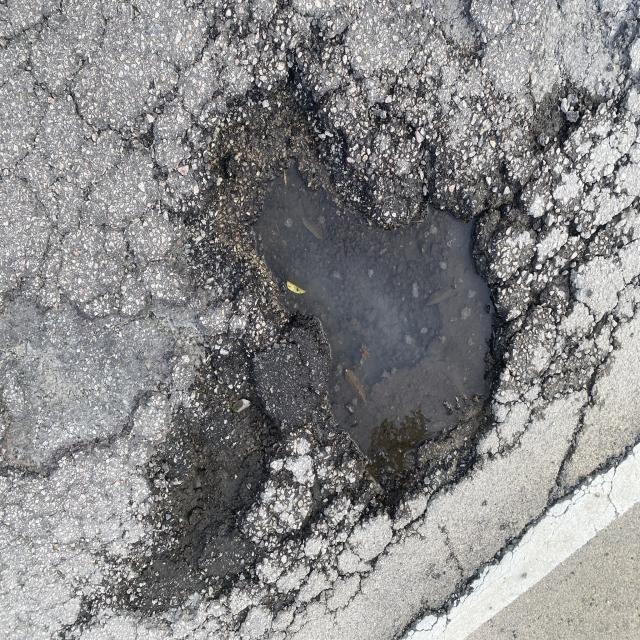Pothole: (159, 49, 552, 505), (97, 334, 284, 615)
